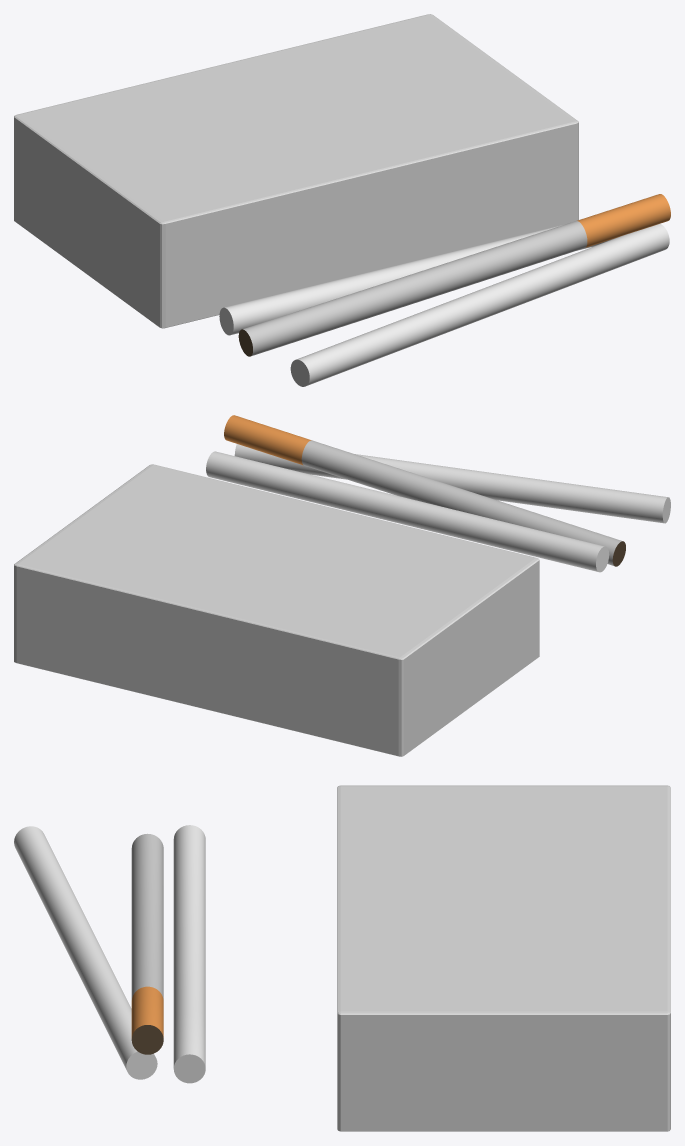
File: cigarrete.fbx
3 renders of one model, top to bottom at view 1: azimuth 30°, elevation 25°; view 2: azimuth 150°, elevation 25°; view 3: azimuth 270°, elevation 25°, orthographic. The views are drawn at different scales.
Visible parts, largest first — view 1: cigarrete_pack, cigarrete_3, cigarrete_2, cigarrete_1; view 2: cigarrete_pack, cigarrete_1, cigarrete_3, cigarrete_2; view 3: cigarrete_pack, cigarrete_2, cigarrete_1, cigarrete_3.
Boxes of the visible parts, x1,y1,x2,y2 form: cigarrete_pack: [14, 14, 578, 328]; cigarrete_3: [238, 194, 670, 356]; cigarrete_2: [290, 224, 669, 386]; cigarrete_1: [219, 224, 612, 335]; cigarrete_pack: [14, 464, 539, 756]; cigarrete_1: [206, 451, 609, 572]; cigarrete_3: [224, 415, 625, 566]; cigarrete_2: [234, 444, 670, 523]; cigarrete_pack: [337, 785, 670, 1131]; cigarrete_2: [14, 826, 157, 1079]; cigarrete_1: [173, 825, 205, 1083]; cigarrete_3: [131, 833, 163, 1054].
Bounding box in the file's own units: 713 × 172 × 862.
